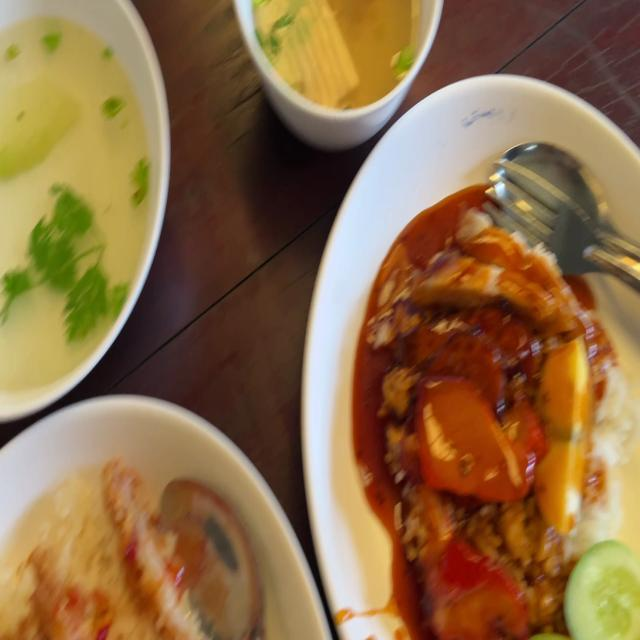red_pork_and_crispy_pork: (536, 334, 591, 526)
stir_fried_basil: (421, 299, 538, 400)
